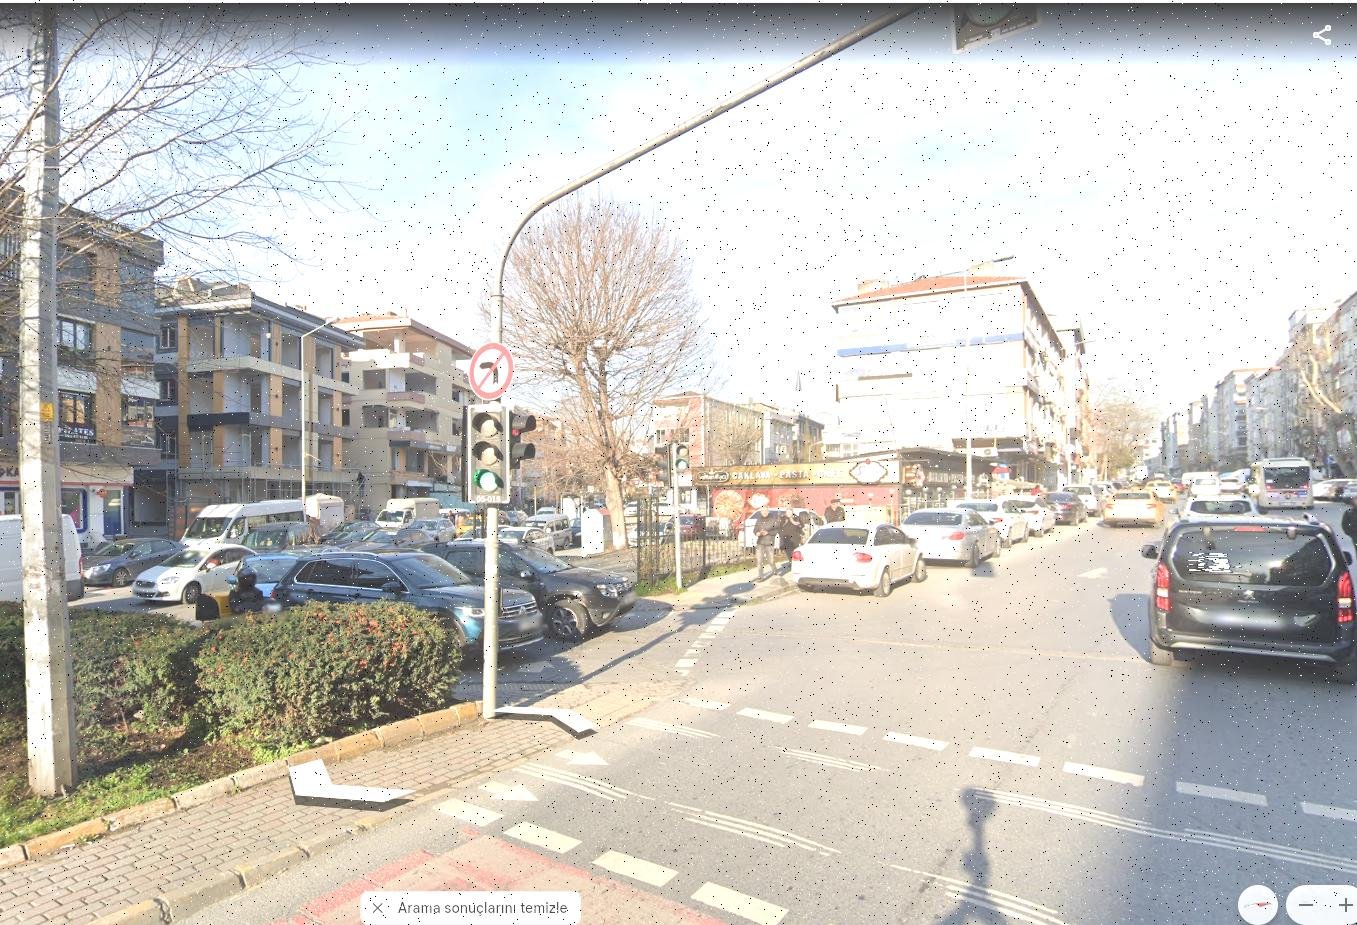greenlight: (468, 407, 504, 494)
leftturnsareforbidden: (470, 344, 511, 395)
